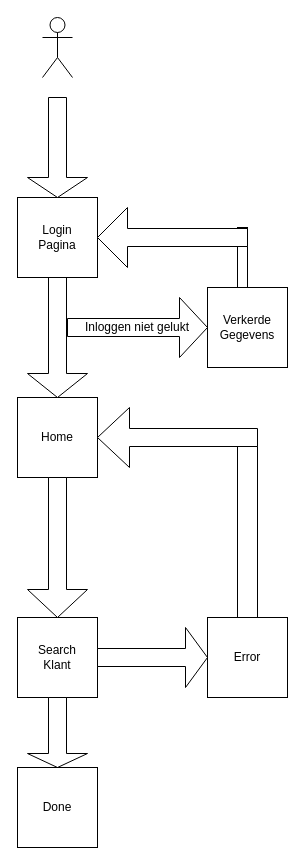
Image size: 305x865. Some labels were removed from this diagram. Each missing label, with the centre of its shape:
"Gelukt" goes at (57,732).
"Inloggen" goes at (57,337).
"Manager" goes at (57,47).
"Mislukt" goes at (152,657).
